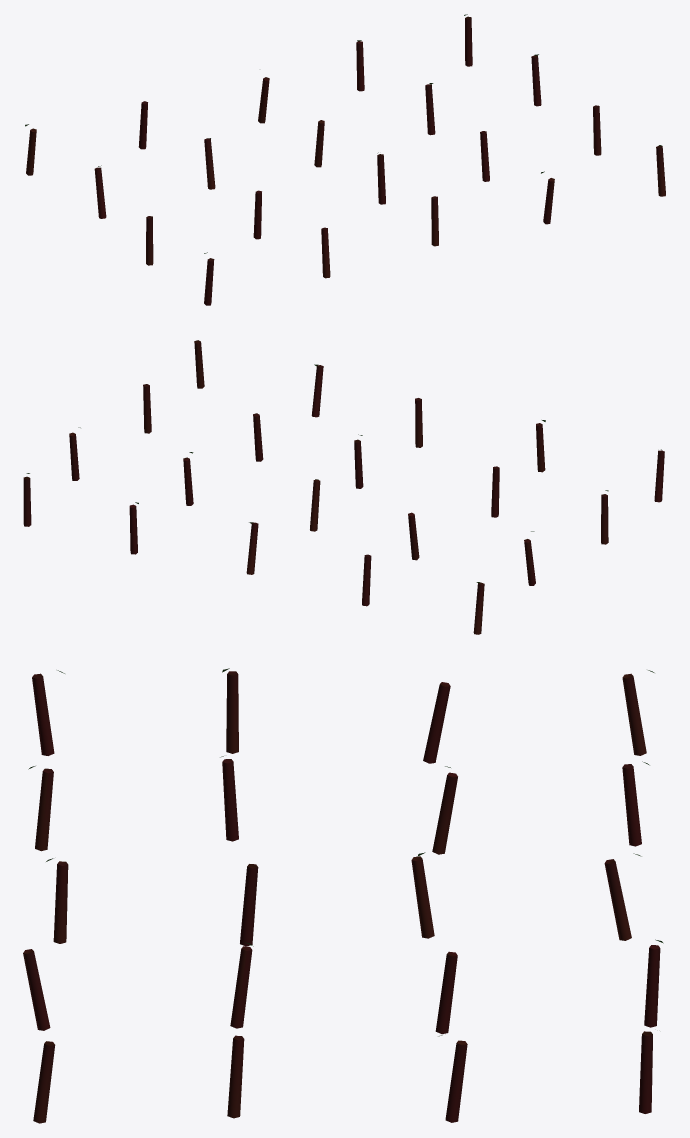
File: fm_cassava_1.glb
3 views of the same model, one above another, from view 1: azimuth 30°, elevation 25°; view 2: azimuth 150°, elevation 25°; view 3: azimuth 270°, elevation 25° (orthographic). The views are drawn at different scales.
Parts seen in each view (by area): view 1: fm_cassava_1; view 2: fm_cassava_1; view 3: fm_cassava_1.
Boxes of the visible parts, x1=… form: fm_cassava_1: x1=25, y1=14, x2=665, y2=305; fm_cassava_1: x1=23, y1=340, x2=664, y2=634; fm_cassava_1: x1=23, y1=668, x2=663, y2=1123.
Size of the model in its own units: 3.46 by 0.3481 by 2.47.
